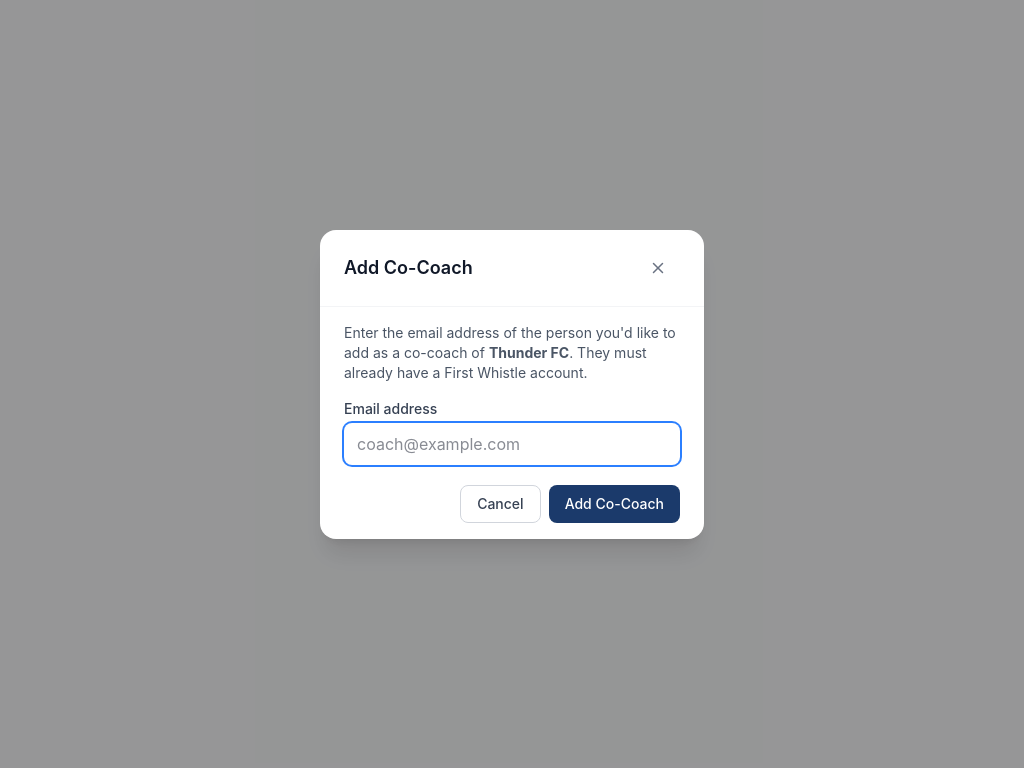
Scenario: AssignCoCoachModal — successful assignment › shows the success message with the coach name and team name after assignment
Type "jane@example.com" into the field. click: (512, 444)
box: x1=344 y1=422 x2=680 y2=464
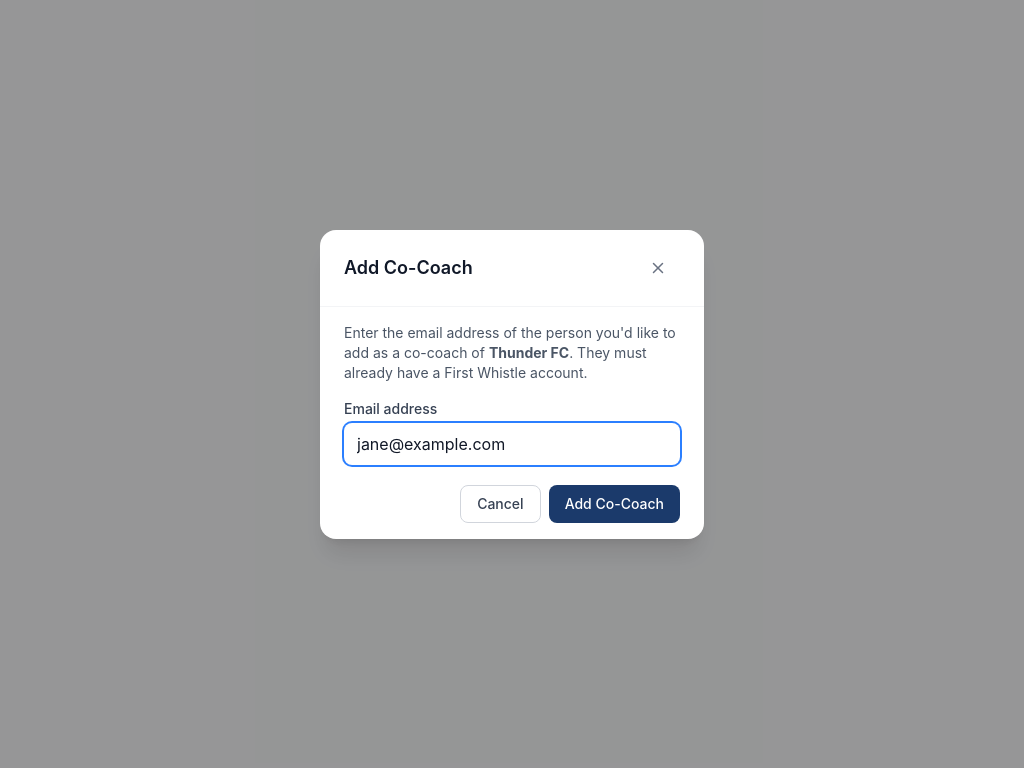
Click the button "Add Co-Coach". click: click(614, 504)
box: x1=549 y1=484 x2=680 y2=522
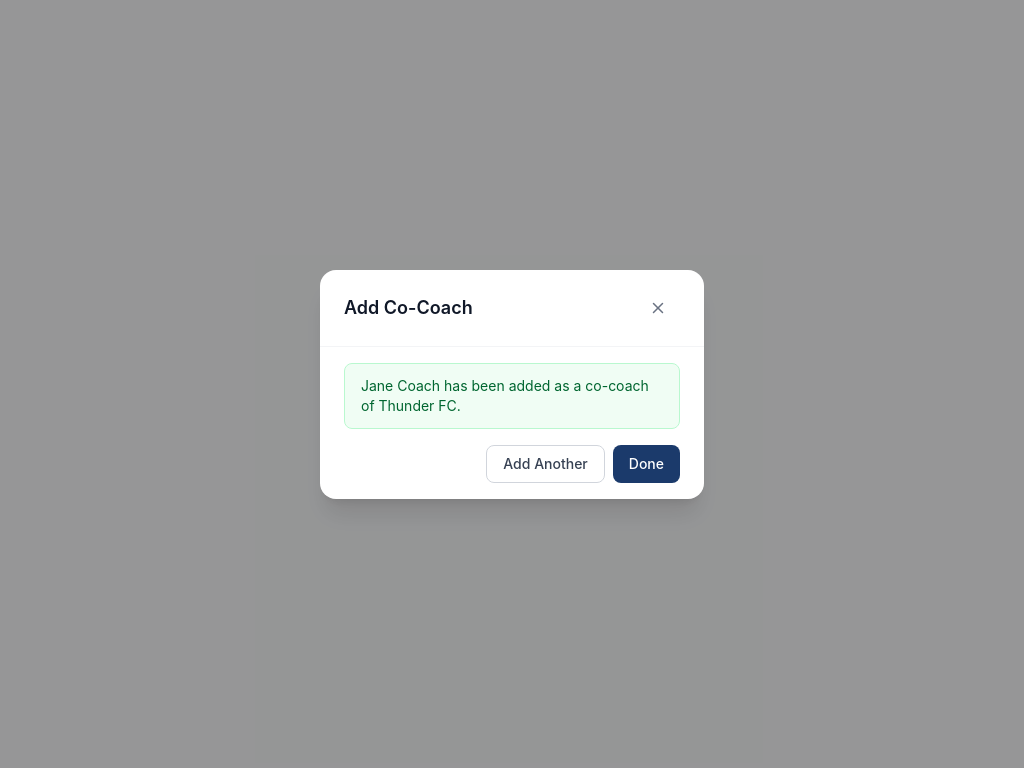
Expected: the text "Jane Coach has been added as a co-coach of Thunder FC." is shown, x1=344 y1=362 x2=680 y2=428
